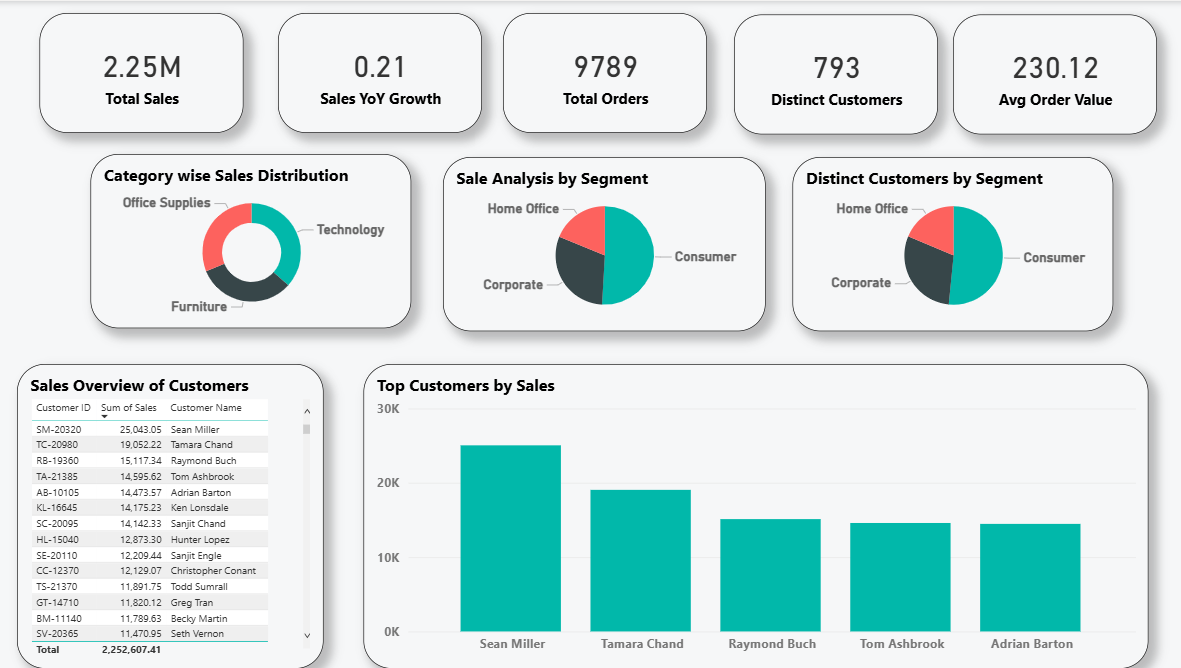

The dashboard page shown, as its layout file describes it:
{"tool":"powerbi","page":{"name":"Page 2","canvas":[1280,720],"ordinal":1},"visuals":[{"type":"card","fields":{"Values":["cleaned_superstore.Total Sales"]},"box":[43.7,12.9,220,129.4],"z":0},{"type":"card","fields":{"Values":["cleaned_superstore.Sales YoY Growth"]},"box":[300.9,12.9,220,129.4],"z":1},{"type":"card","fields":{"Values":["cleaned_superstore.Total Orders"]},"box":[543.6,12.9,220,129.4],"z":2},{"type":"card","fields":{"Values":["cleaned_superstore.Avg Order Value"]},"box":[1029,14.6,220,129.4],"z":3},{"type":"card","fields":{"Values":["cleaned_superstore.Distinct Customers"]},"box":[792.8,14.6,220,129.4],"z":4},{"type":"tableEx","title":"Sales Overview of Customers","fields":{"Values":["cleaned_superstore.Customer ID","Sum(cleaned_superstore.Sales)","cleaned_superstore.Customer Name"]},"box":[18.9,391.2,330.7,328.8],"z":5},{"type":"columnChart","title":"Top Customers by Sales","fields":{"Category":["cleaned_superstore.Customer Name"],"Y":["Sum(cleaned_superstore.Sales)"]},"box":[393.1,391.2,846.6,328.8],"z":6},{"type":"donutChart","title":"Category wise Sales Distribution","fields":{"Category":["cleaned_superstore.Category"],"Y":["Sum(cleaned_superstore.Sales)"]},"box":[98.7,165,346.2,187.7],"z":7},{"type":"pieChart","title":"Sale Analysis by Segment","fields":{"Category":["cleaned_superstore.Segment"],"Y":["Sum(cleaned_superstore.Sales)"]},"box":[478.9,168.3,347.9,187.7],"z":8},{"type":"pieChart","fields":{"Category":["cleaned_superstore.Segment"],"Y":["cleaned_superstore.Distinct Customers"]},"box":[855.9,168.3,346.2,187.7],"z":9}]}

Visuals, with their boxes in screenshot pixels (x1, y1, x2, y2), scaled from the page's 1280x720 canvas onto the 1181x668 screenshot:
card - cleaned_superstore.Total Sales: <region>40, 12, 243, 132</region>
card - cleaned_superstore.Sales YoY Growth: <region>278, 12, 481, 132</region>
card - cleaned_superstore.Total Orders: <region>502, 12, 705, 132</region>
card - cleaned_superstore.Avg Order Value: <region>949, 14, 1152, 134</region>
card - cleaned_superstore.Distinct Customers: <region>731, 14, 934, 134</region>
"Sales Overview of Customers" tableEx: <region>17, 363, 323, 667</region>
"Top Customers by Sales" columnChart: <region>363, 363, 1144, 667</region>
"Category wise Sales Distribution" donutChart: <region>91, 153, 410, 327</region>
"Sale Analysis by Segment" pieChart: <region>442, 156, 763, 330</region>
pieChart - cleaned_superstore.Segment x cleaned_superstore.Distinct Customers: <region>790, 156, 1109, 330</region>
